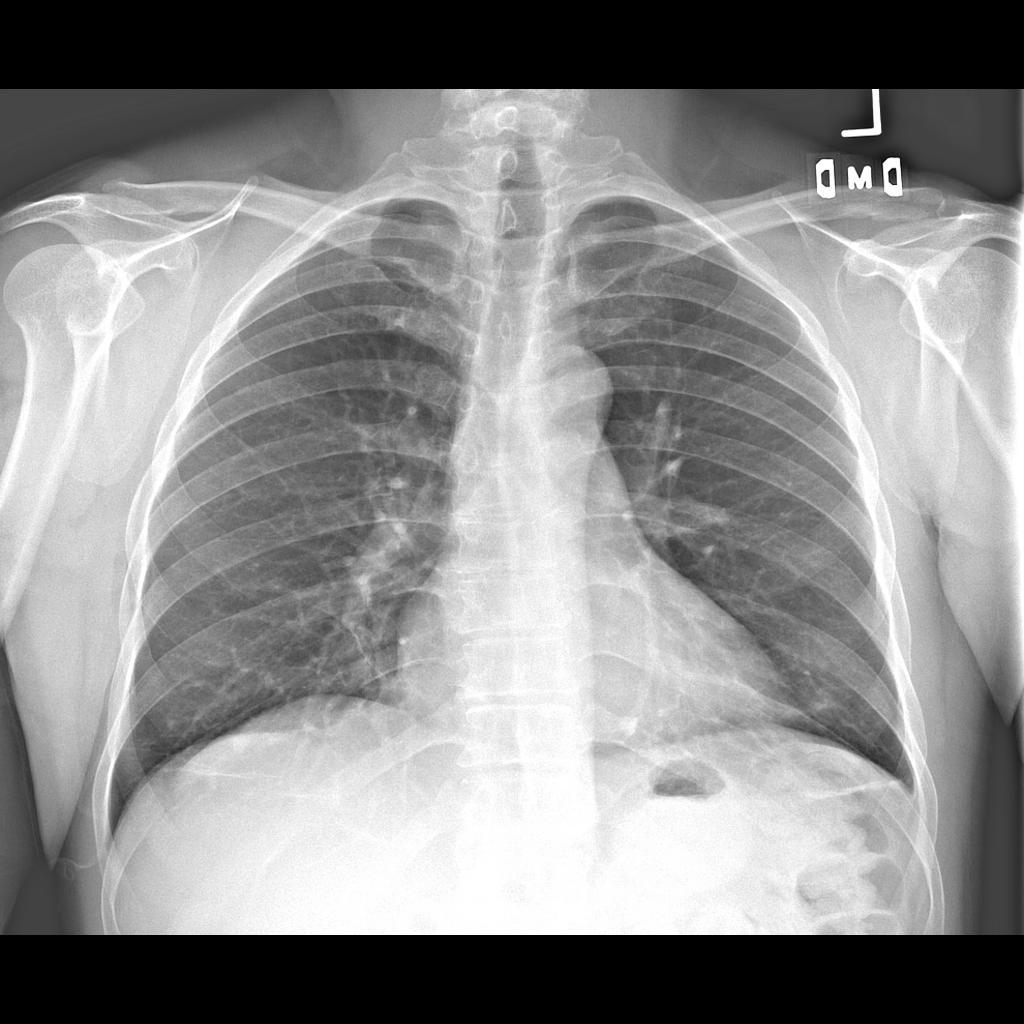Nodule: (616, 713, 641, 740)
